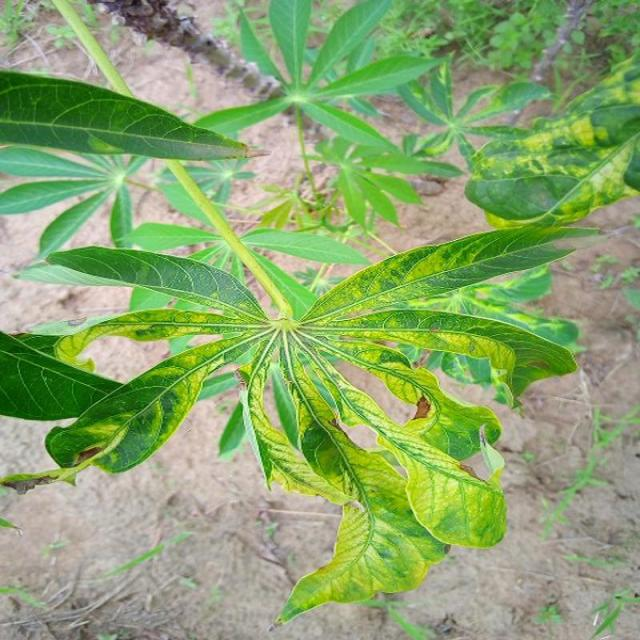Mosaico: (78, 245, 534, 580), (458, 35, 640, 225), (406, 58, 535, 176)
